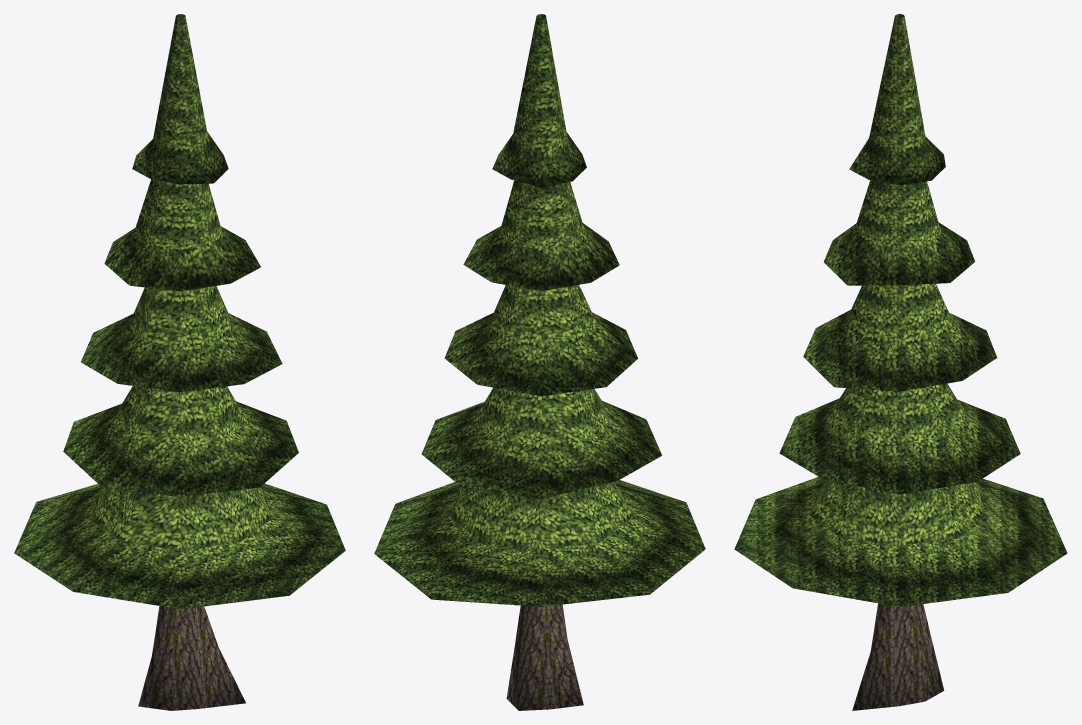
File: pine_0.glb
3 renders of one model, left to right at view 1: azimuth 30°, elevation 25°; view 2: azimuth 150°, elevation 25°; view 3: azimuth 270°, elevation 25°, orthographic.
Visible parts, largest first — view 1: Pine; view 2: Pine; view 3: Pine.
Boxes of the visible parts, <box> form: Pine: <box>14,14,345,710</box>; Pine: <box>374,14,705,710</box>; Pine: <box>734,14,1067,710</box>.
Size of the model in its own units: 5.22 by 11.94 by 5.34.
2 materials, 2 textured.
